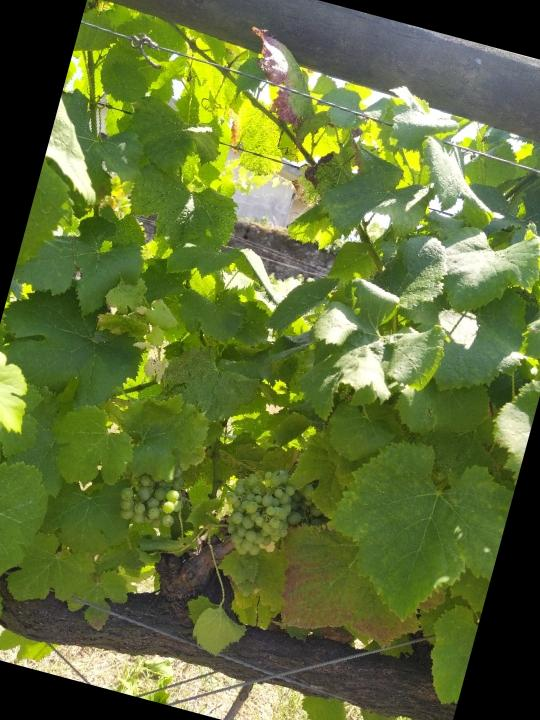grape: (208, 452, 334, 576), (109, 462, 194, 541)
